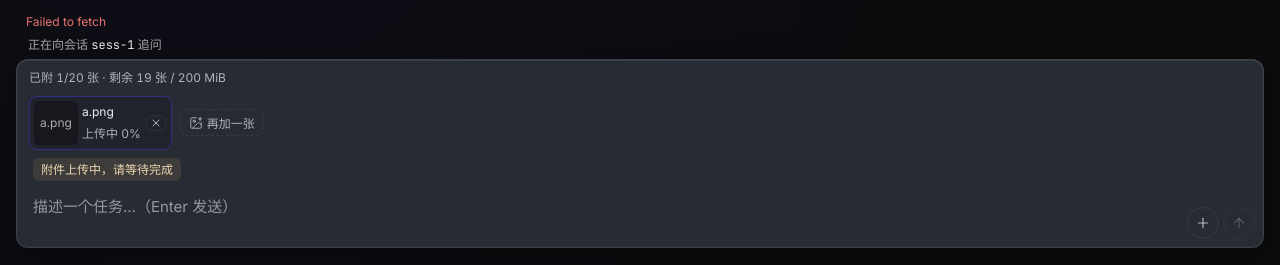
it: Composer 附图：#825 AC4 上传状态、失败与重试 › 移除草稿：中止在途上传并离开栏
The image size is (1280, 265).
Click the button with class "composer-attach-remove": (156, 123) [145,115,167,131]
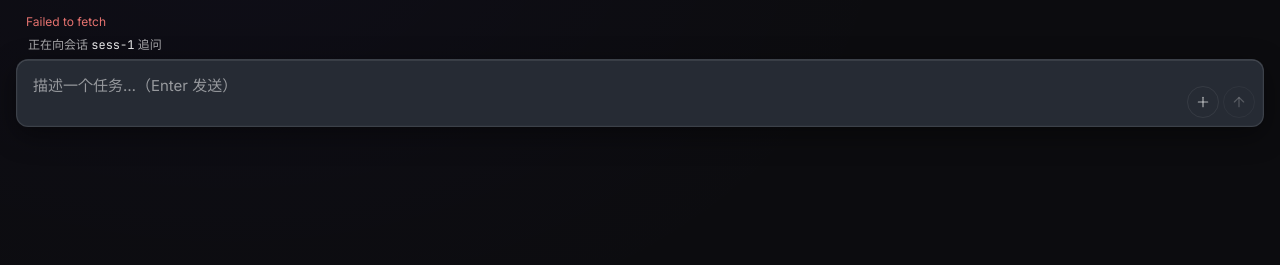
Expected: no elements with class "composer-attach-card" are shown
